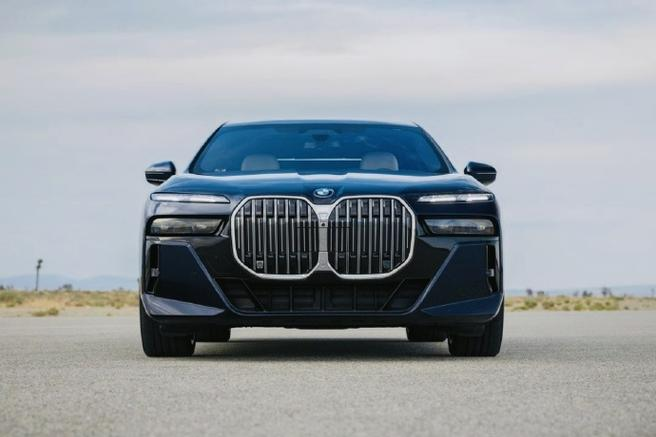汽车: (127, 110, 523, 376)
